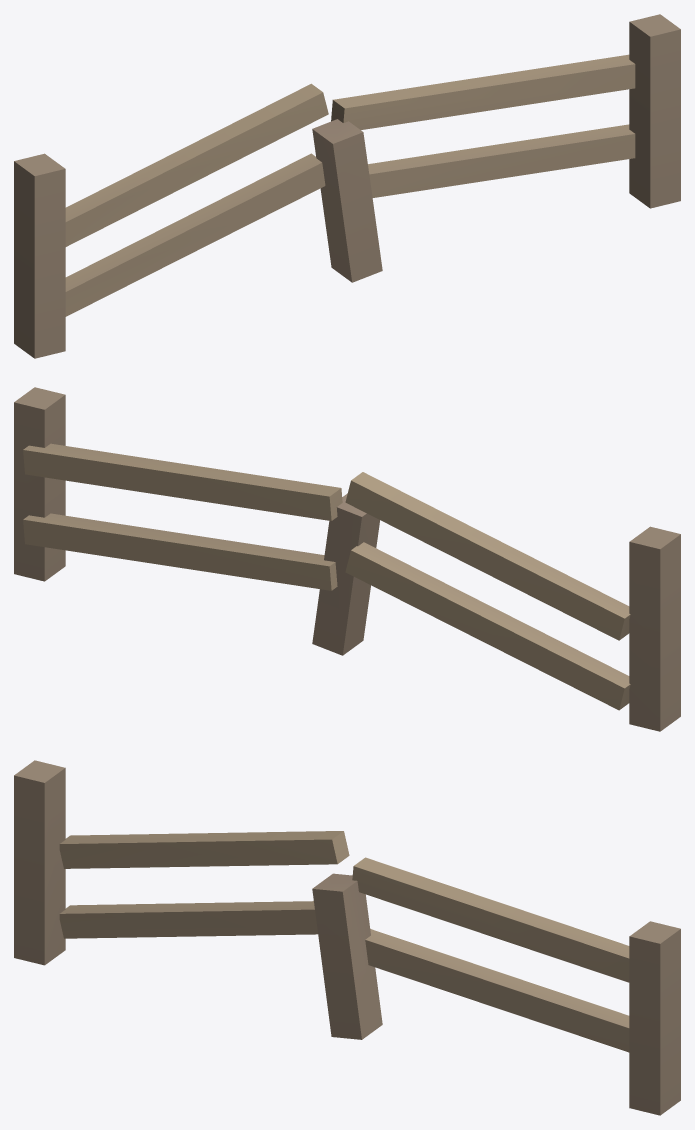
The model's file is AV_FenceBroken.glb.
3 views of the same model, one above another, from view 1: azimuth 30°, elevation 25°; view 2: azimuth 150°, elevation 25°; view 3: azimuth 330°, elevation 25° (orthographic).
Parts seen in each view (by area): view 1: Body; view 2: Body; view 3: Body.
Boxes of the visible parts, x1=… form: Body: x1=14, y1=14, x2=680, y2=358; Body: x1=14, y1=387, x2=680, y2=731; Body: x1=14, y1=760, x2=680, y2=1115.
Bounding box in the file's own units: 12.6 × 3.43 × 0.9.
